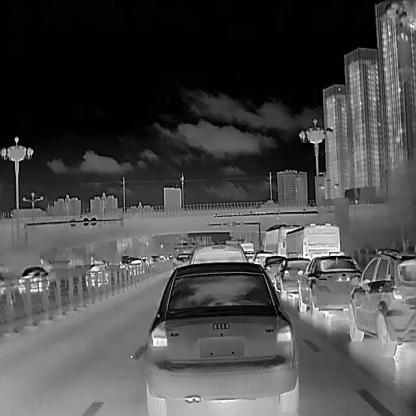bus: (283, 222, 339, 256), (261, 223, 301, 252)
car: (144, 261, 298, 414), (348, 251, 415, 356), (298, 254, 361, 316), (274, 256, 310, 297), (17, 265, 50, 292), (84, 260, 113, 286), (125, 258, 143, 276)
